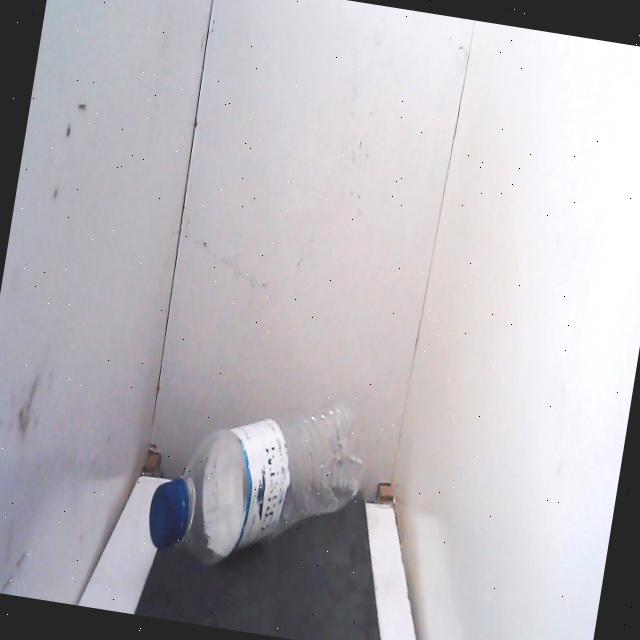plastico: (132, 364, 380, 592)
